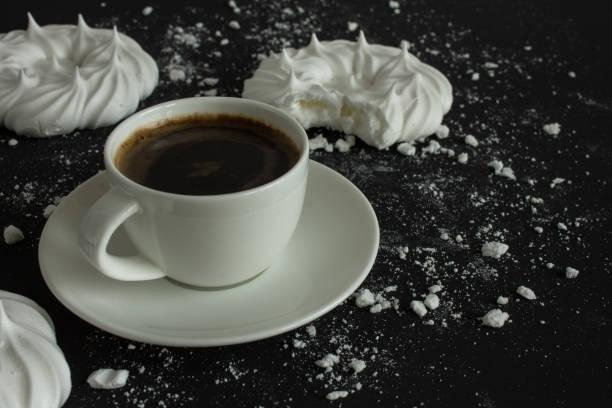cup-handle: (77, 94, 311, 290)
